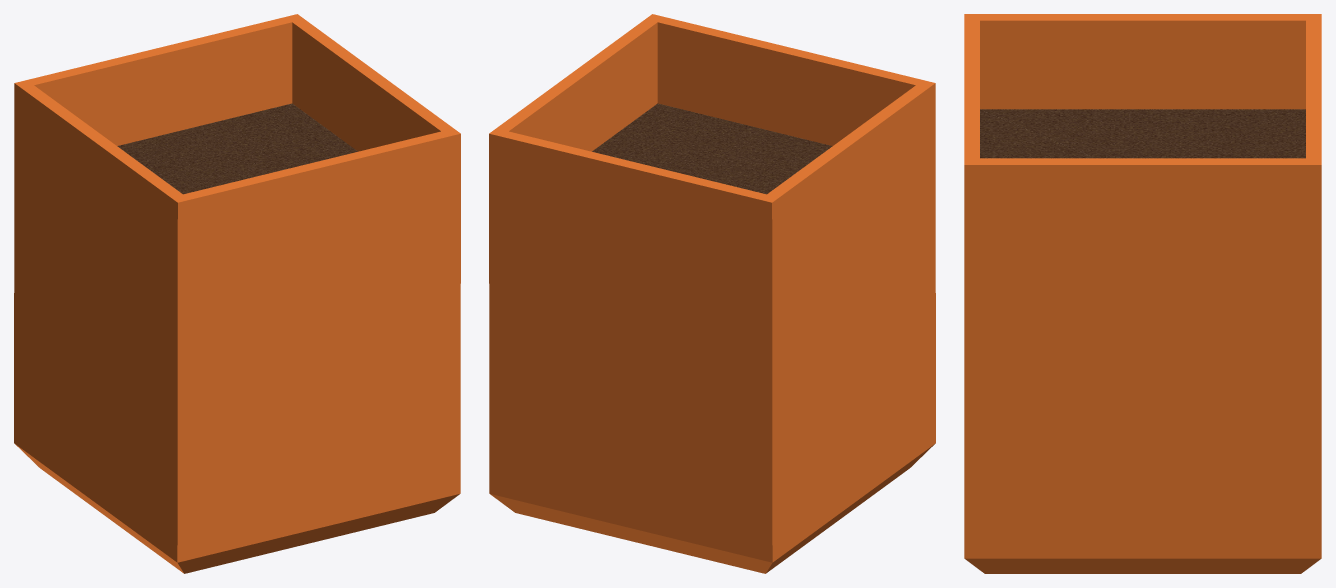
Rendered from square pot.FBX.
The picture shows the model from 3 angles, left to right: view 1: azimuth 30°, elevation 25°; view 2: azimuth 150°, elevation 25°; view 3: azimuth 270°, elevation 25°; orthographic projection. The views are drawn at different scales.
Visible parts, largest first — view 1: Box001; view 2: Box001; view 3: Box001.
Boxes of the visible parts, <box> form: Box001: <box>14,14,460,573</box>; Box001: <box>489,14,935,573</box>; Box001: <box>964,14,1321,573</box>.
Size of the model in its own units: 11.01 by 14.19 by 11.
Materials: 2 (2 with a texture image).
